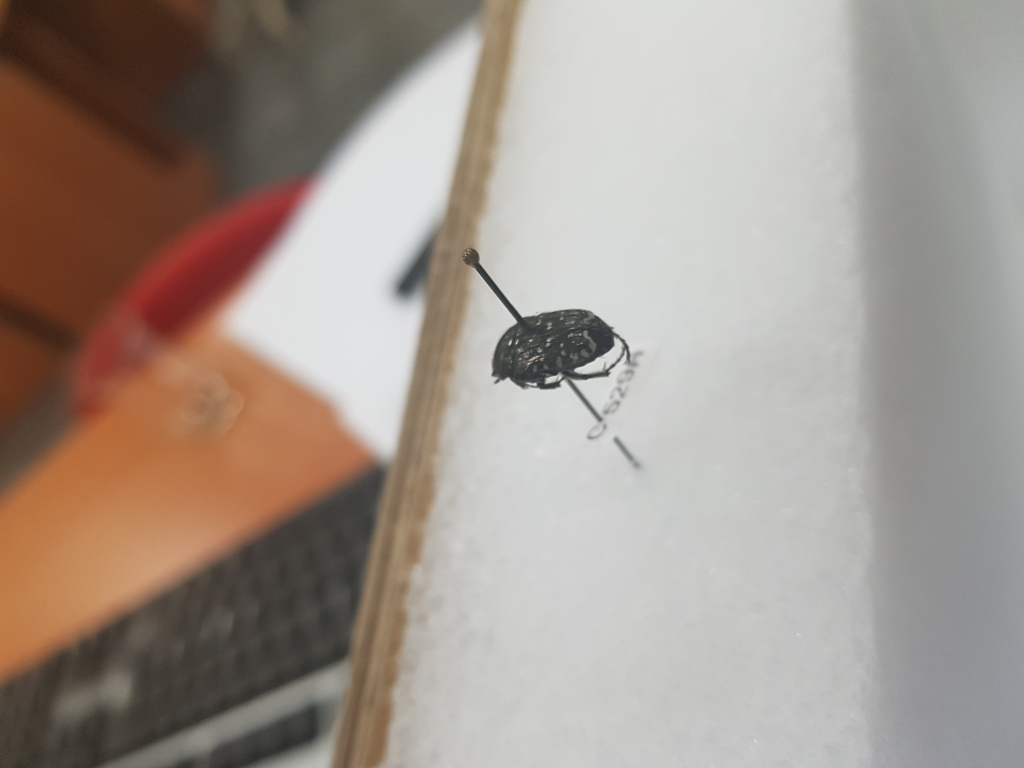Oxythyrea_funesta: (487, 306, 635, 391)
